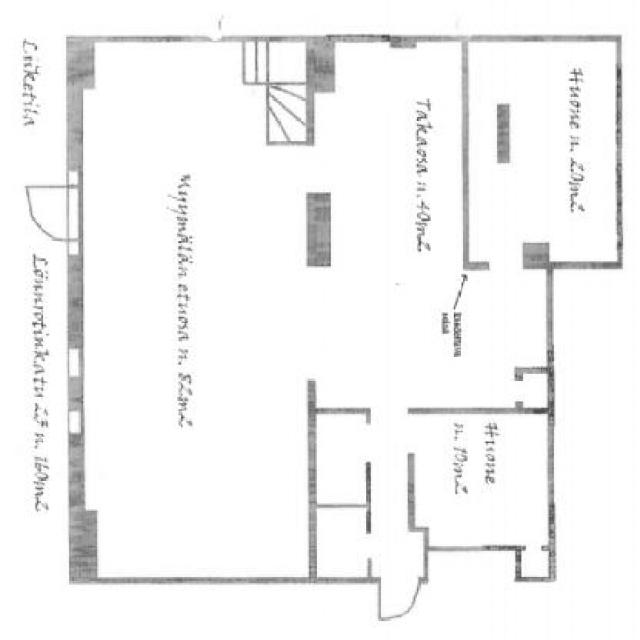door: (86, 41, 551, 577), (468, 40, 609, 260)
window: (25, 183, 80, 246), (371, 580, 423, 622)
zone: (66, 348, 82, 380), (69, 408, 82, 434)
